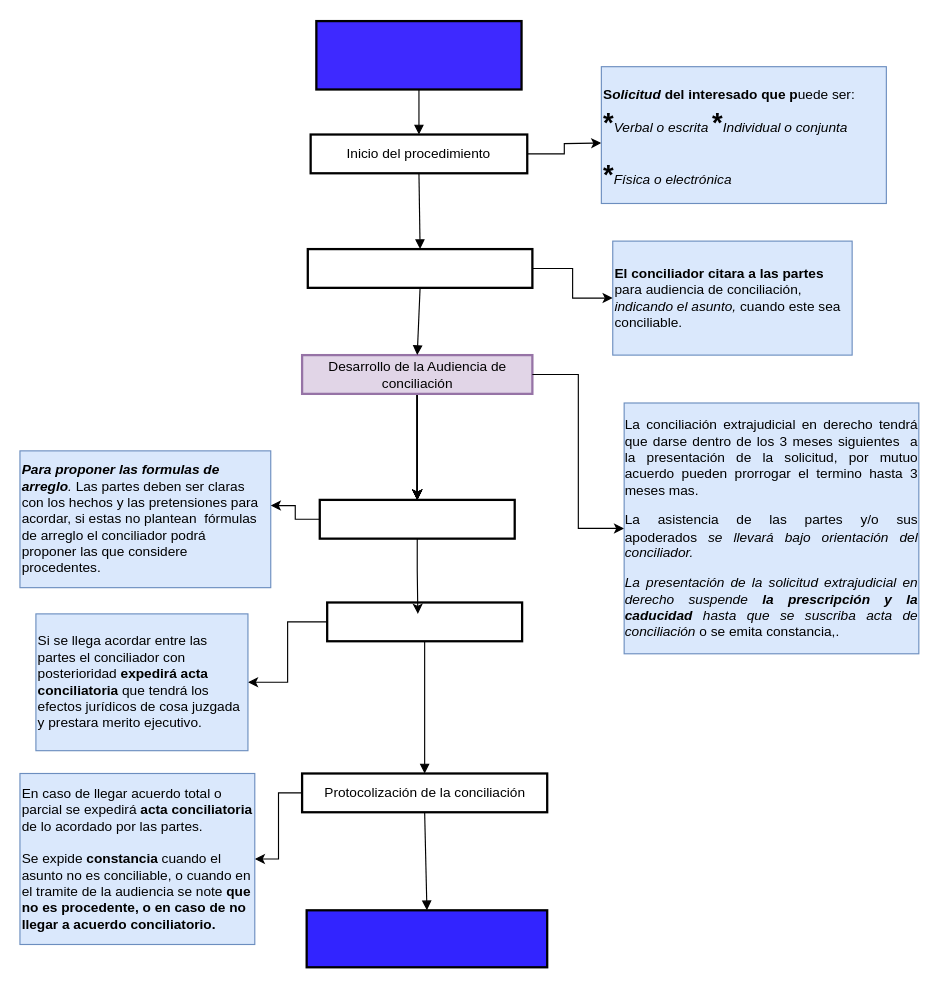
The diagram is 939 pixels wide and 987 high, and some of its shapes have lost their labels. The centre of each missing label's shape, as x and y in pixels:
Acuerdo Conciliatorio: [424,621]
Convocatoria a Audiencia: [419,267]
Finalización del Procedimiento: [426,938]
Procedimiento Conciliatorio Ley 2220 de 2022: [418,54]
Propuesta de Acuerdo: [416,518]
